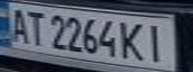2: (45, 11, 69, 51), (63, 14, 84, 53)
4: (96, 17, 121, 57)
6: (78, 16, 100, 55)
A: (3, 6, 30, 44)
I: (139, 20, 172, 63)
K: (118, 19, 148, 62)
T: (21, 8, 48, 46)
